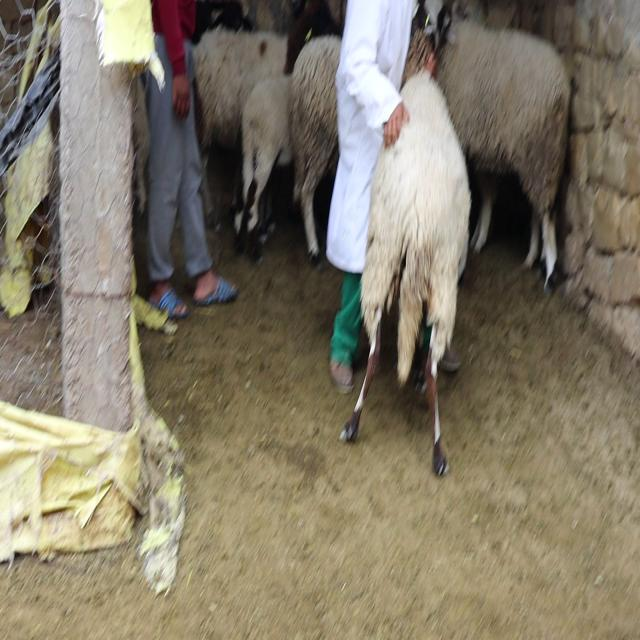Score_4: (339, 28, 471, 476)
